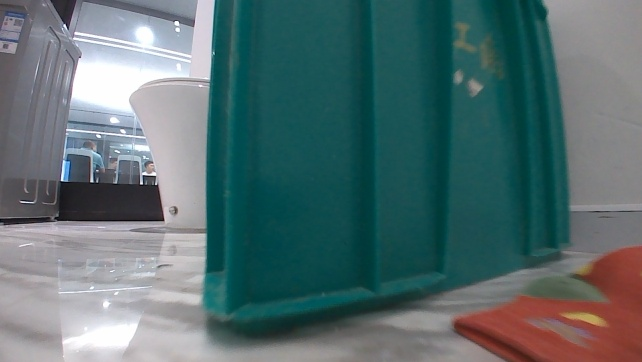socks: (449, 242, 641, 361)
toilet: (122, 74, 210, 230)
